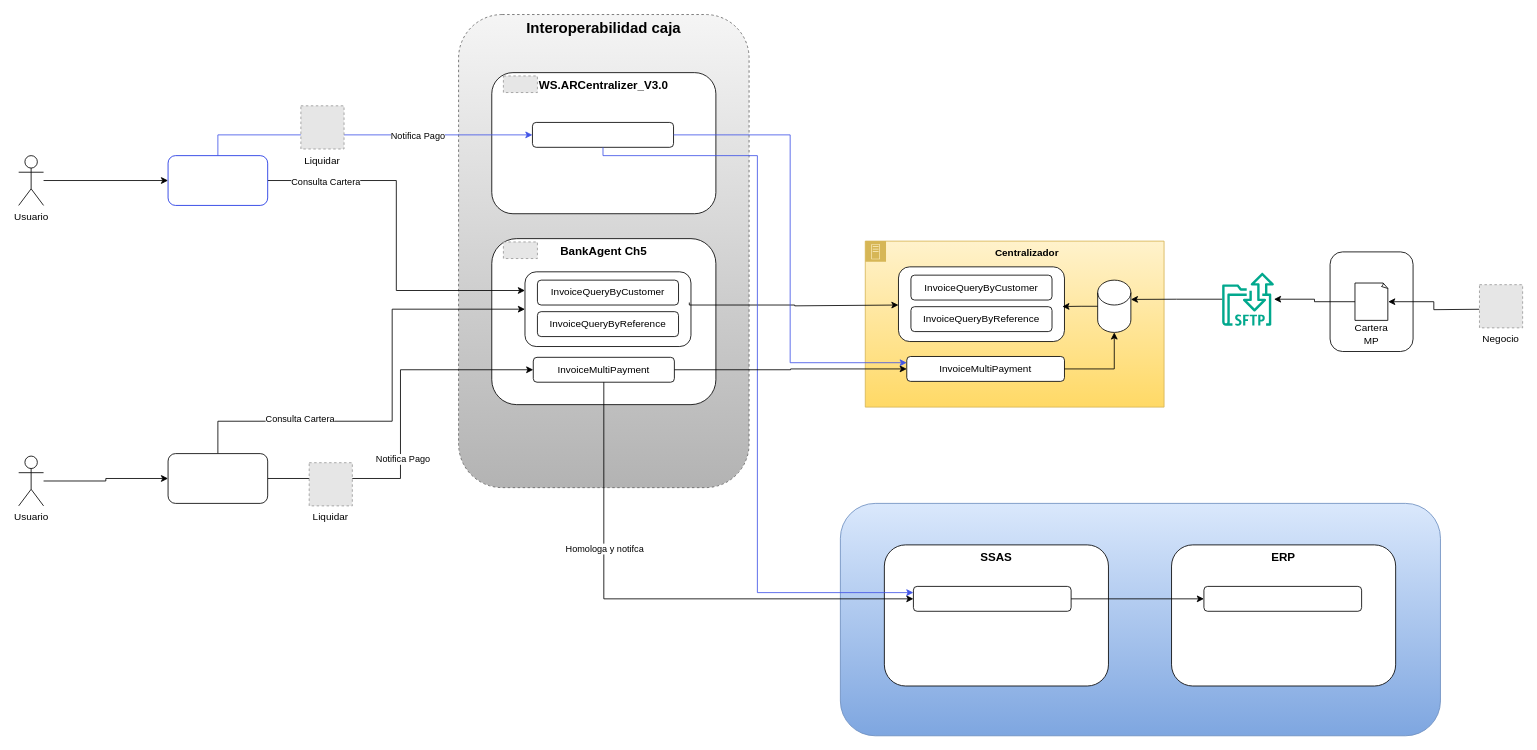
Image size: 1537x750. Some labels were removed from this diagram. Grey dashed boxes stand in for pictures. The centre of each missing label's shape, as x and y in pixels:
AsentarPago: (603,134)
CajaSap: (217,478)
Modulos de autoservicio: (217,180)
Notificación Contable: (1282,598)
RegistrarPago: (992,598)
